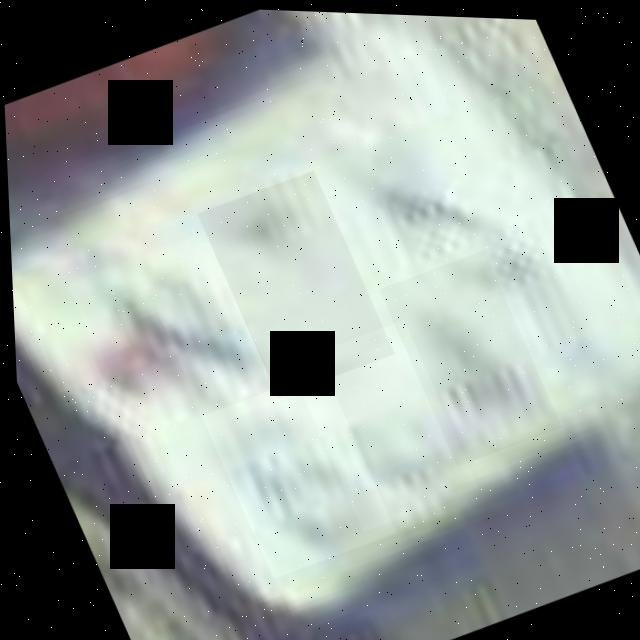4: (375, 243, 559, 465)
5: (284, 312, 476, 533)
8: (196, 363, 393, 580)
N: (62, 226, 278, 456)
T: (193, 163, 393, 398)
